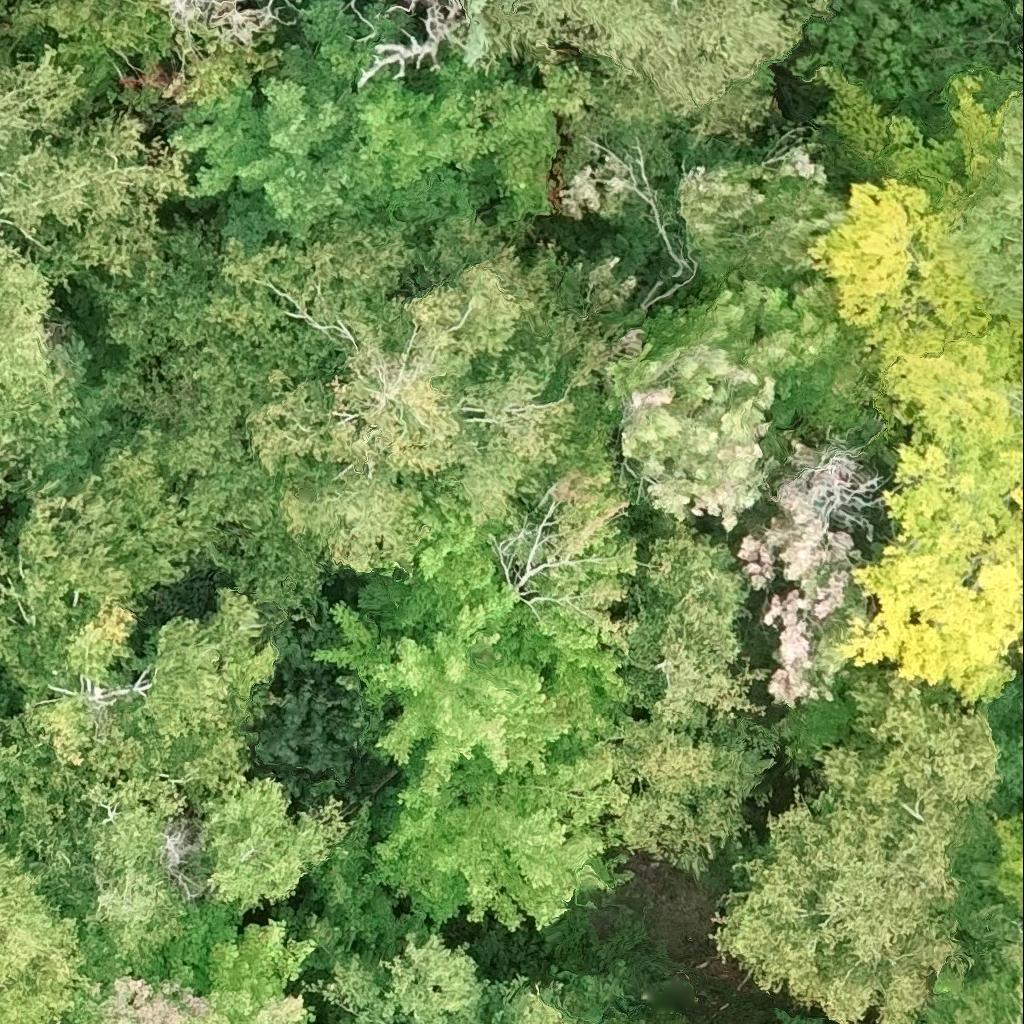crown: (79, 208, 591, 614), (0, 475, 352, 959), (713, 684, 1001, 1023), (380, 419, 637, 736), (809, 66, 1023, 429), (313, 581, 624, 826), (835, 309, 1023, 702), (606, 270, 876, 527), (437, 255, 651, 525), (364, 744, 628, 929), (166, 40, 385, 257), (0, 47, 192, 288), (480, 0, 802, 135), (299, 0, 487, 227), (0, 0, 281, 121), (58, 901, 320, 1023), (619, 525, 769, 736), (738, 453, 864, 704), (0, 222, 117, 491), (597, 712, 780, 878), (317, 933, 644, 1023), (429, 53, 590, 227), (680, 144, 852, 290), (791, 0, 1014, 100), (557, 62, 683, 218), (0, 843, 87, 1023), (956, 93, 1023, 315), (356, 0, 466, 89), (941, 922, 1023, 1023), (159, 0, 294, 47), (461, 0, 489, 61), (345, 0, 376, 41), (124, 0, 169, 21), (381, 0, 418, 16), (774, 1012, 820, 1023), (0, 470, 10, 506), (810, 0, 828, 12), (283, 0, 295, 7), (506, 0, 514, 7), (1019, 637, 1023, 650), (297, 0, 301, 2), (1022, 4, 1023, 8)
